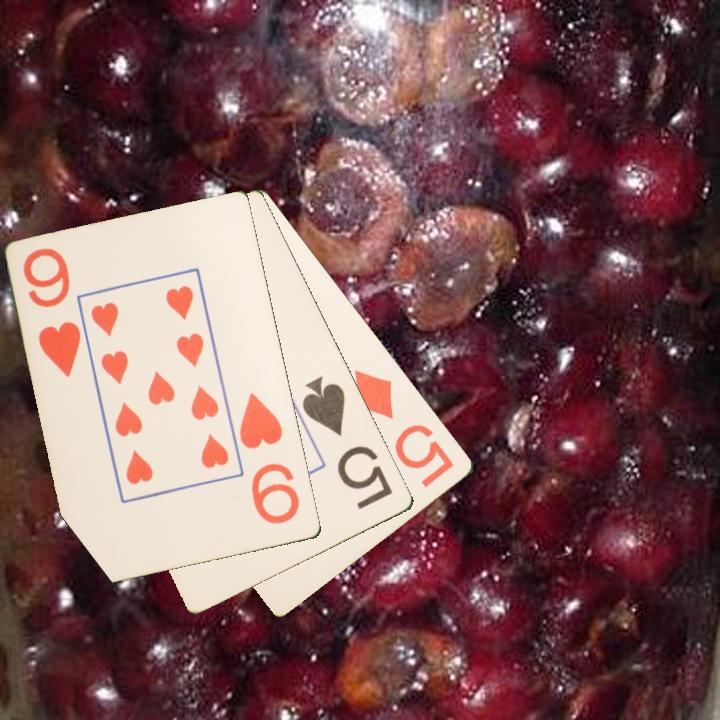5d: (351, 365, 458, 491)
5s: (299, 372, 396, 513)
9h: (236, 389, 303, 528), (19, 244, 85, 381)
